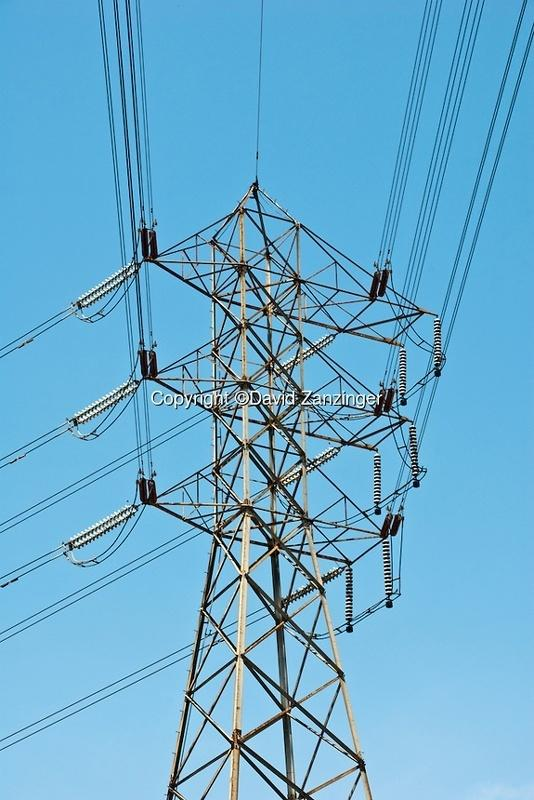power_tower: (85, 177, 445, 788)
